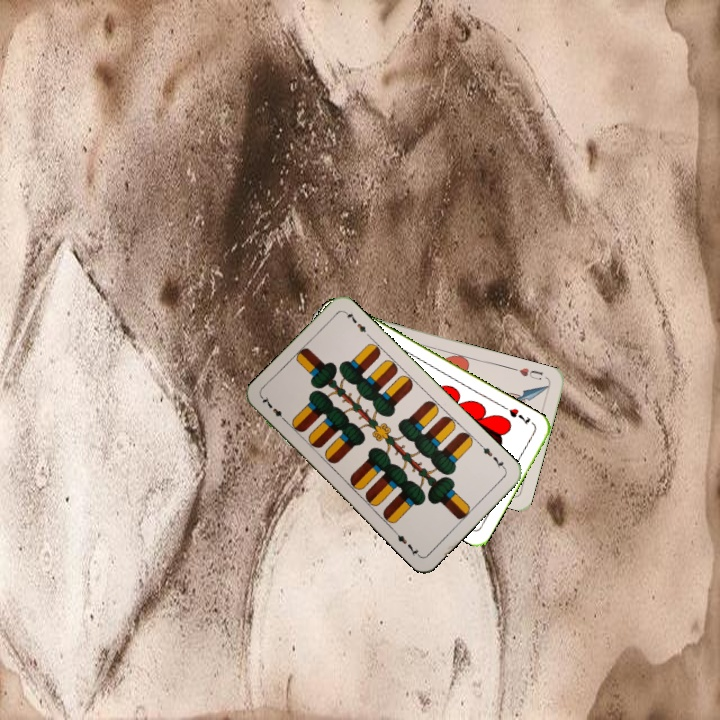E7: (476, 440, 508, 473), (258, 392, 290, 425)
H7: (505, 404, 533, 427)
HU: (509, 364, 545, 382)
